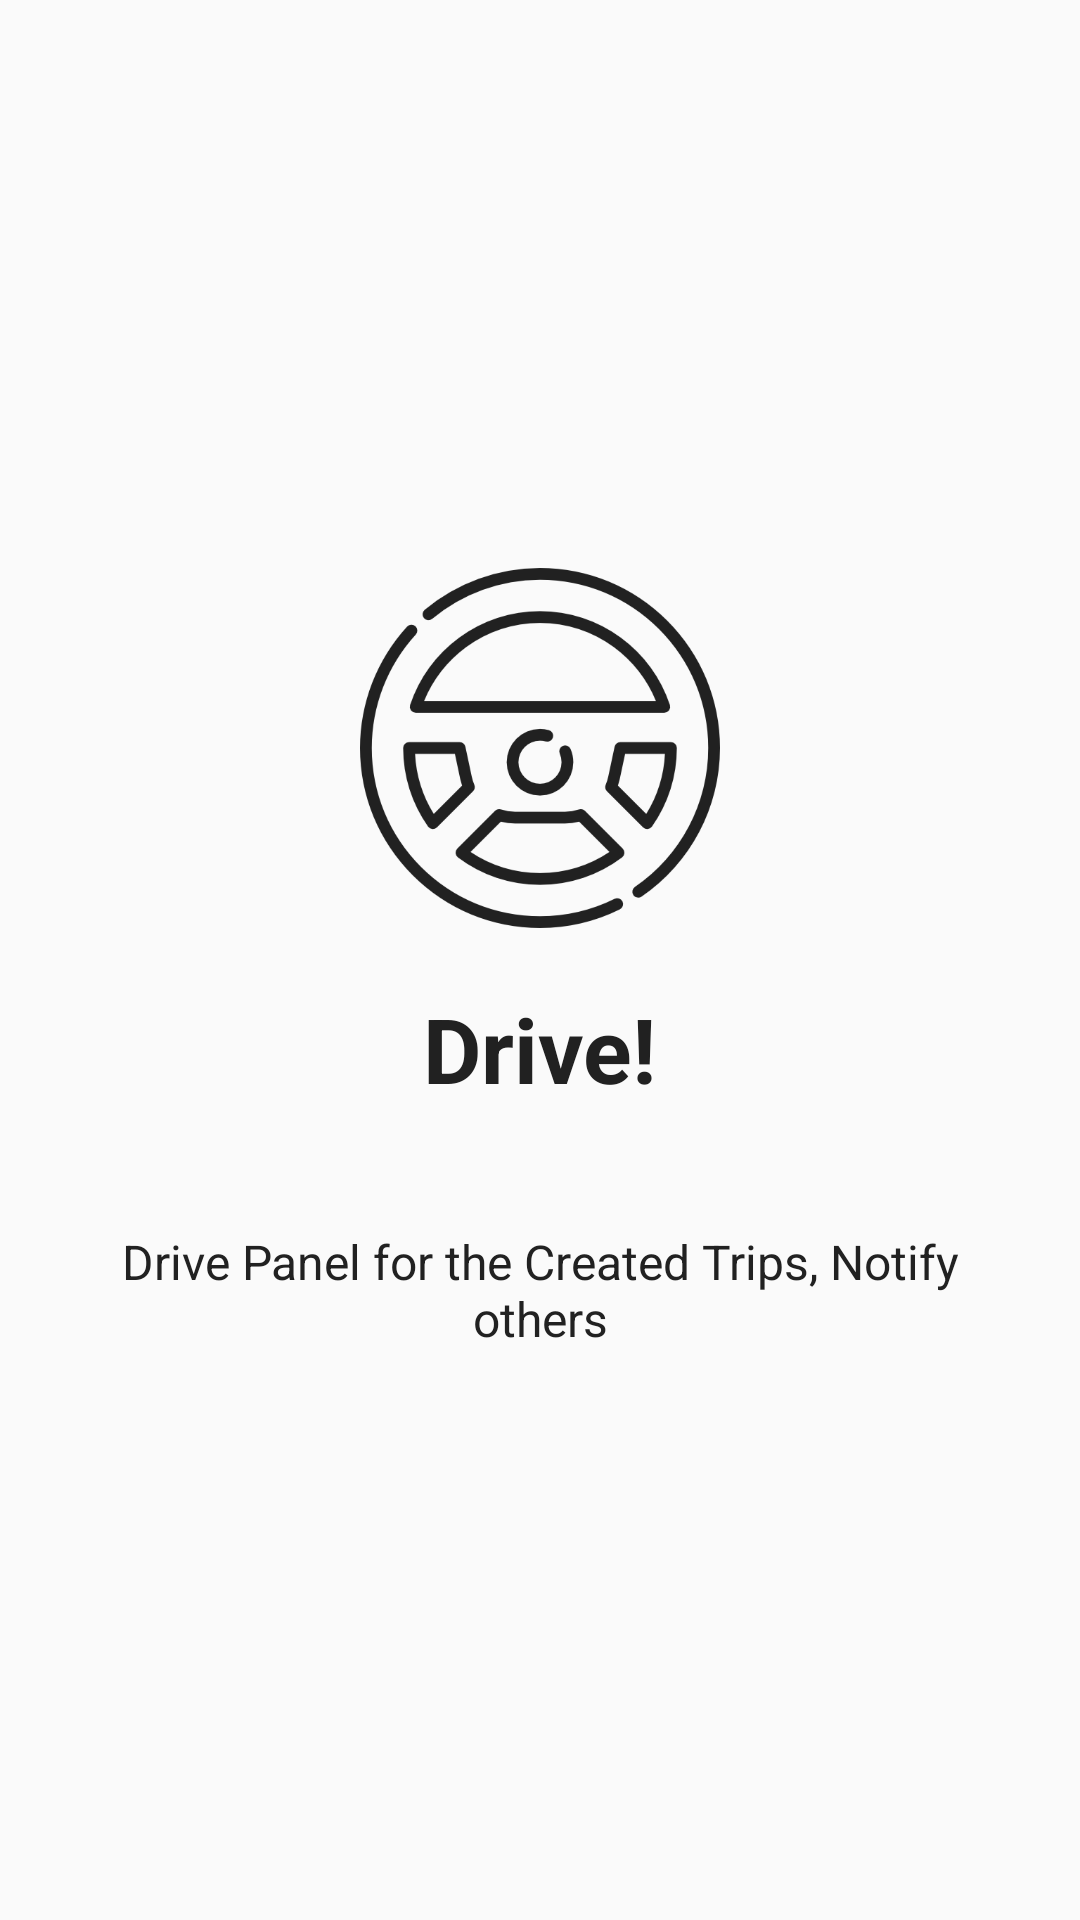

Icons on this 1080 x 1920 Android screen, each with the point to tap as point (x, y):
steeringwheel: point (540, 748)
